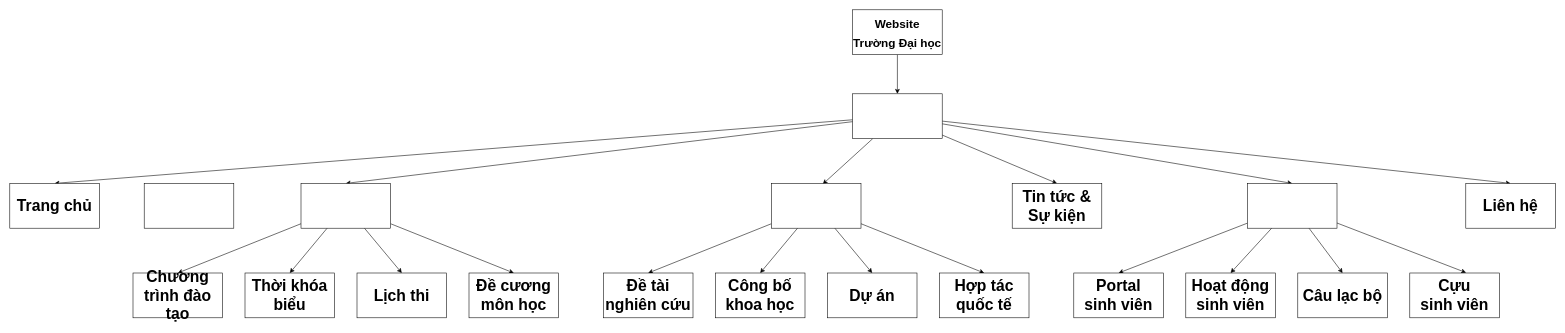
This 1565x333 diagram has some shape labels left out. Each missing label, with the centre of its shape:
"FrontEnd" belongs at (897,116).
"Giới thiệu" belongs at (345,205).
"Nghiên cứu" belongs at (816,205).
"Sinh viên" belongs at (1292,205).
"Đào tạo" belongs at (189,205).
